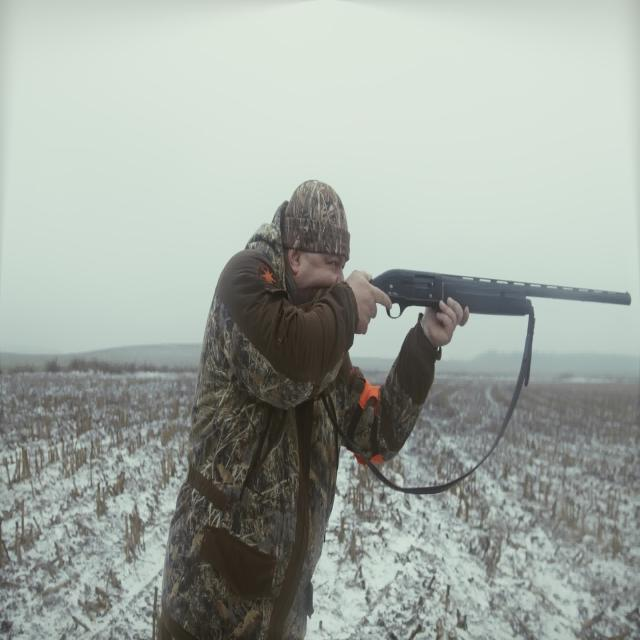poacher: (214, 214, 364, 594)
weapon: (301, 233, 502, 329)
